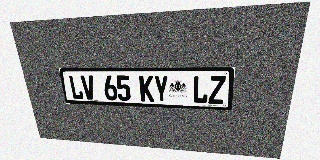5: (116, 75, 131, 101)
6: (102, 75, 118, 101)
K: (139, 75, 154, 102)
L: (192, 76, 209, 104), (68, 75, 84, 99)
V: (80, 75, 96, 100)
Y: (154, 76, 169, 102)
Z: (208, 76, 226, 104)
